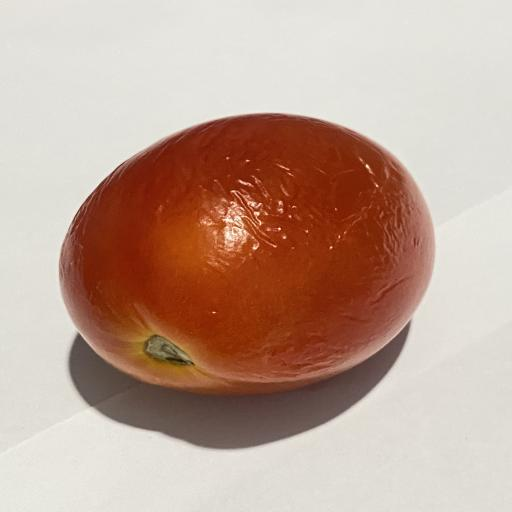spoiled: (60, 114, 434, 394)
